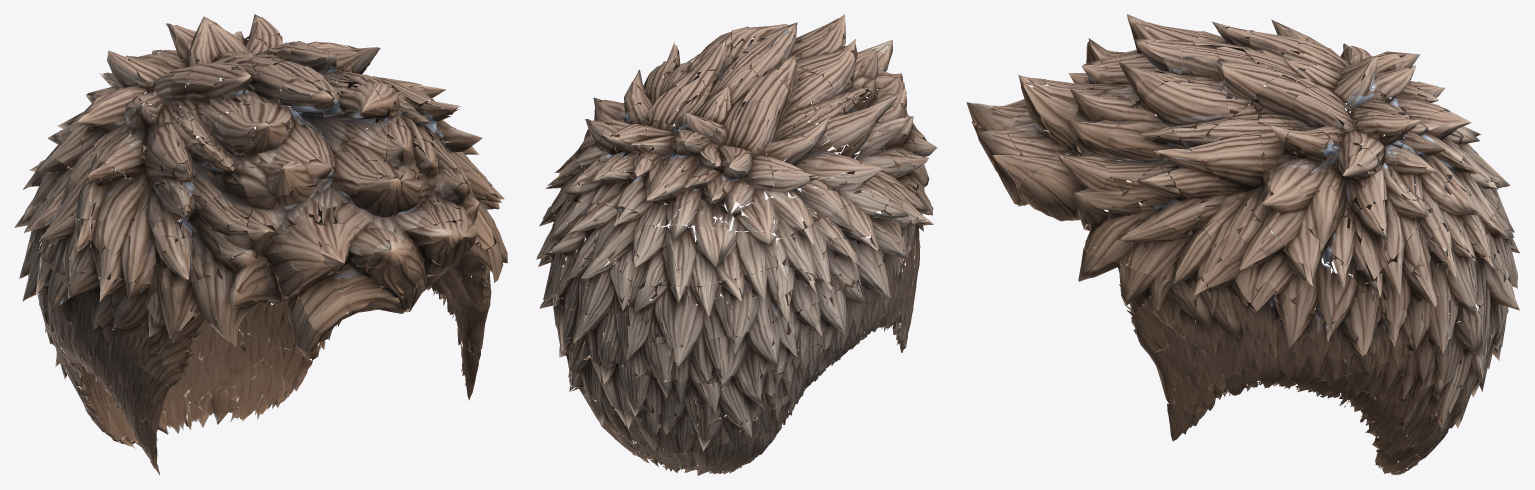
Rendered from hair_short.glb.
The picture shows the model from 3 angles, left to right: view 1: azimuth 30°, elevation 25°; view 2: azimuth 150°, elevation 25°; view 3: azimuth 270°, elevation 25°; orthographic projection. The views are drawn at different scales.
Visible parts, largest first — view 1: hair_short; view 2: hair_short; view 3: hair_short.
Part boxes in pixels (bbox=[...]): hair_short: bbox=[14, 14, 507, 475]; hair_short: bbox=[536, 14, 937, 475]; hair_short: bbox=[966, 14, 1520, 475].
Size of the model in its own units: 1.5 by 1.57 by 1.9.
Materials: 1 (1 with a texture image).
